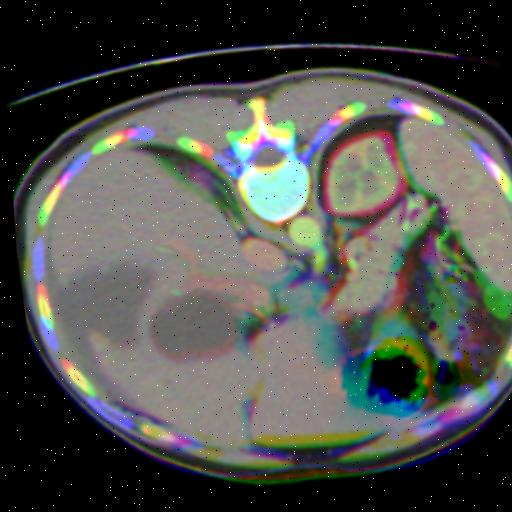Cyst: (50, 265, 150, 349), (145, 292, 231, 362)
